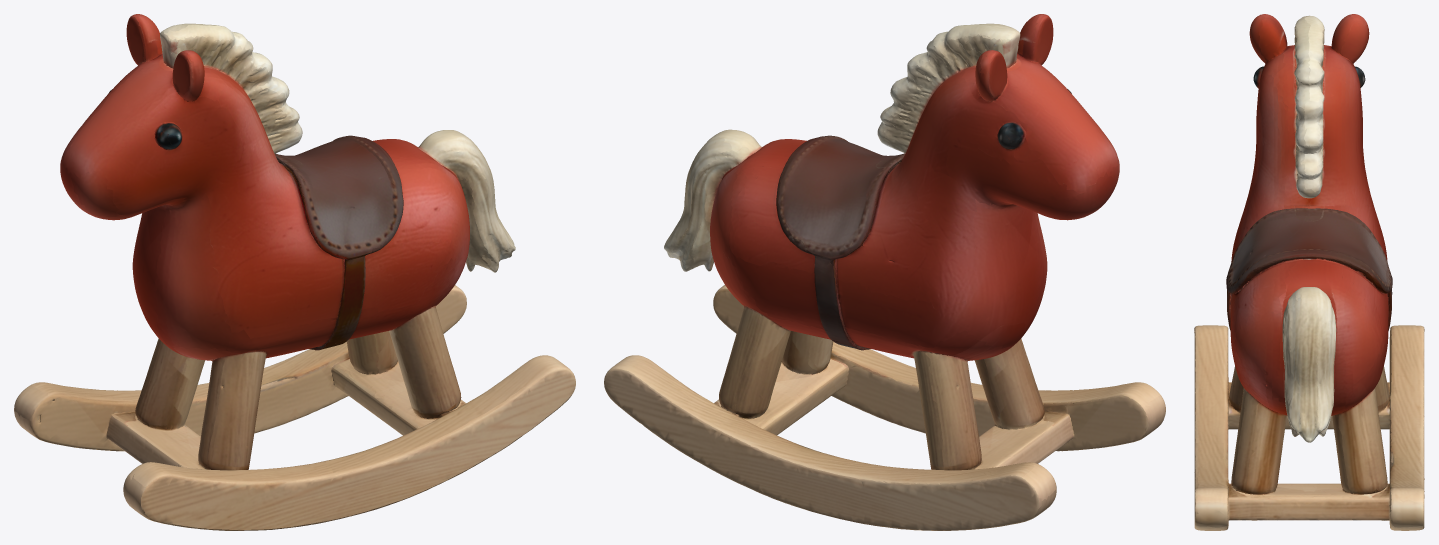
Rendered from rocking-horse.glb.
3 renders of one model, left to right at view 1: azimuth 30°, elevation 25°; view 2: azimuth 150°, elevation 25°; view 3: azimuth 270°, elevation 25°, orthographic. The views are drawn at different scales.
Visible parts, largest first — view 1: geometry_0; view 2: geometry_0; view 3: geometry_0.
Part boxes in pixels (x1,y1,x2,y2): geometry_0: (14, 14, 575, 530); geometry_0: (604, 14, 1165, 530); geometry_0: (1194, 14, 1424, 530).
Bounding box in the file's own units: 0.65 × 0.6579 × 0.325.
Materials: 1 (1 with a texture image).
